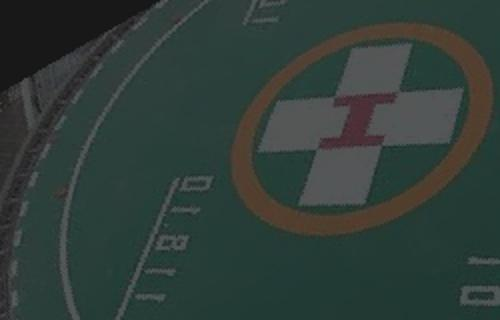Apron: (245, 21, 490, 233)
